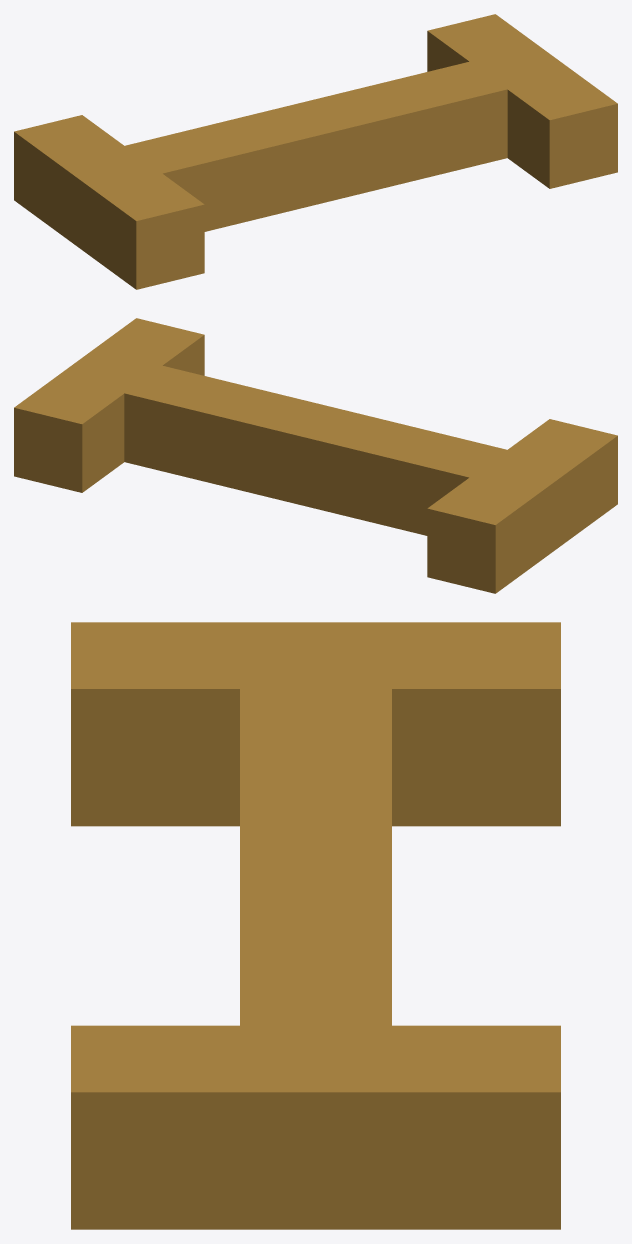
File: rail.glb
The picture shows the model from 3 angles, top to bottom: view 1: azimuth 30°, elevation 25°; view 2: azimuth 150°, elevation 25°; view 3: azimuth 270°, elevation 25°; orthographic projection. The views are drawn at different scales.
Visible parts, largest first — view 1: rail.001; view 2: rail.001; view 3: rail.001.
Part boxes in pixels (left/top/right/bottom): rail.001: left=14, top=14, right=617, bottom=289; rail.001: left=14, top=318, right=617, bottom=593; rail.001: left=71, top=622, right=560, bottom=1229.
Bounding box in the file's own units: 1.07 × 0.1465 × 0.4731.
